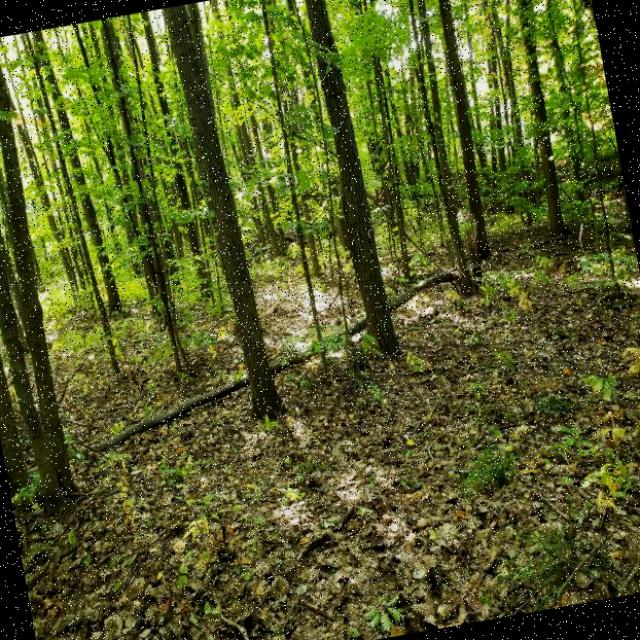fallen_object: (37, 223, 498, 487)
